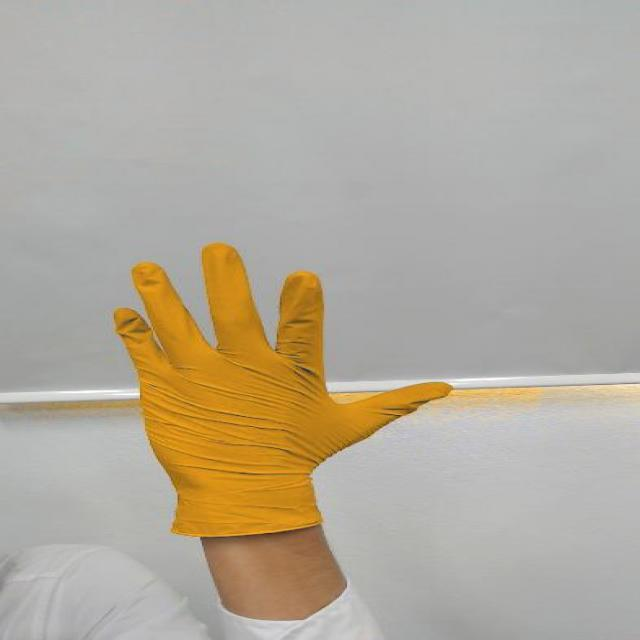Glove: (88, 231, 456, 538)
